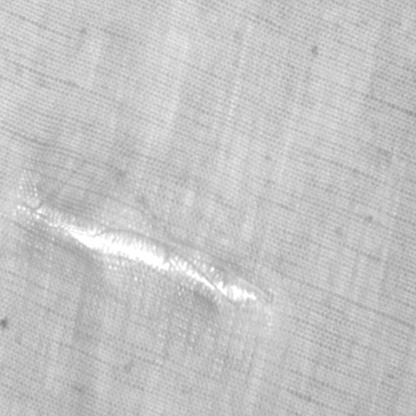hole: (15, 190, 259, 316)
